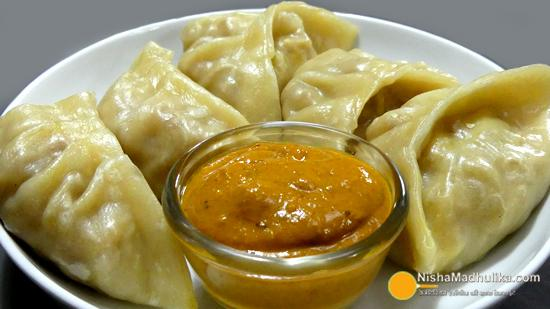momos: (0, 91, 194, 307), (368, 67, 550, 273), (98, 42, 248, 197), (178, 2, 358, 122), (281, 48, 458, 137)
